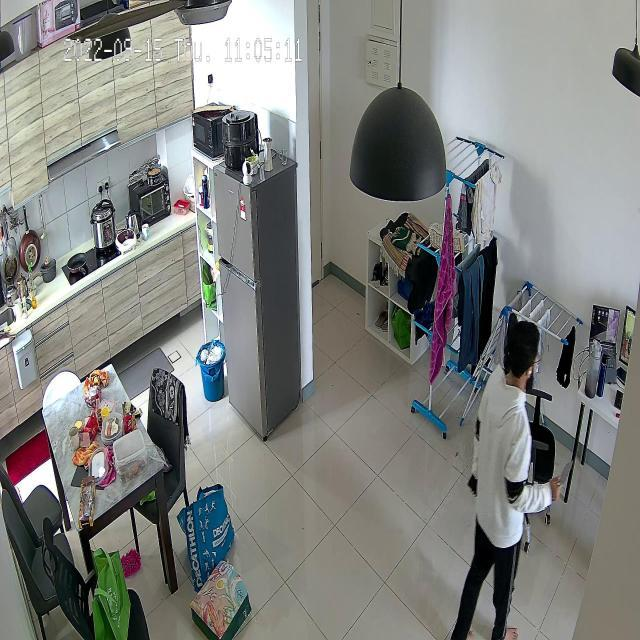Knife: (539, 452, 583, 508)
